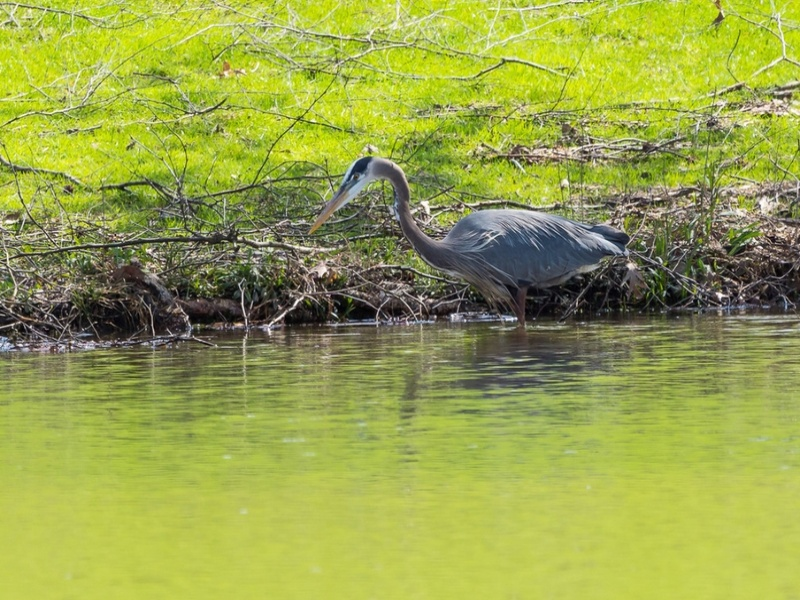heron: (306, 152, 630, 321)
